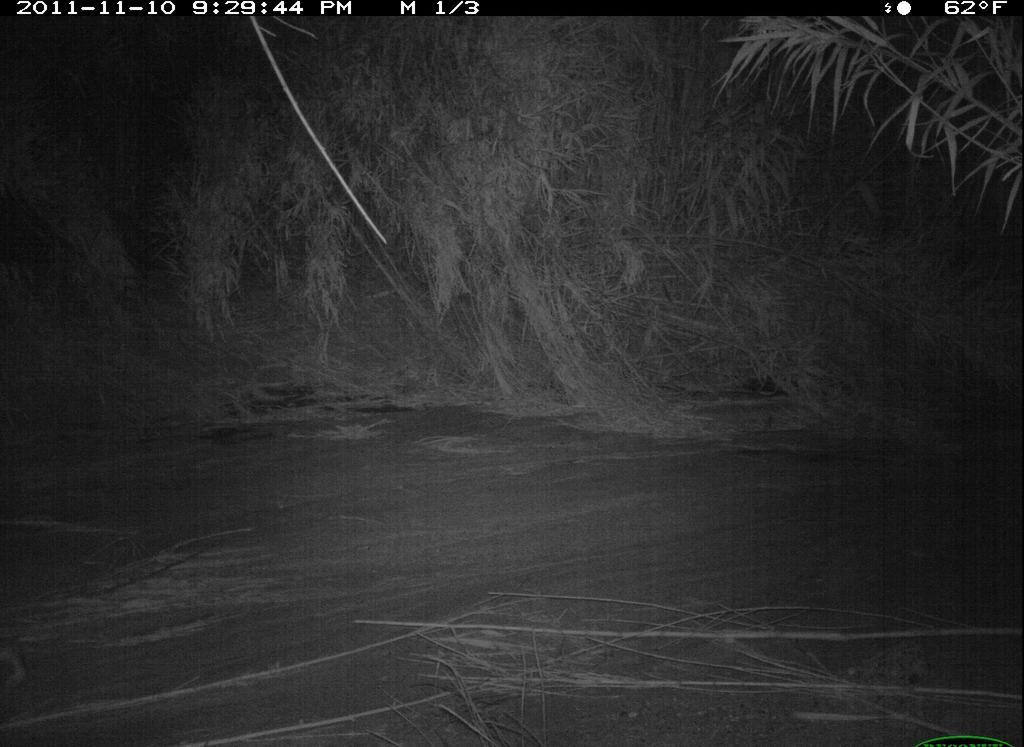bobcat: (1, 631, 45, 701)
